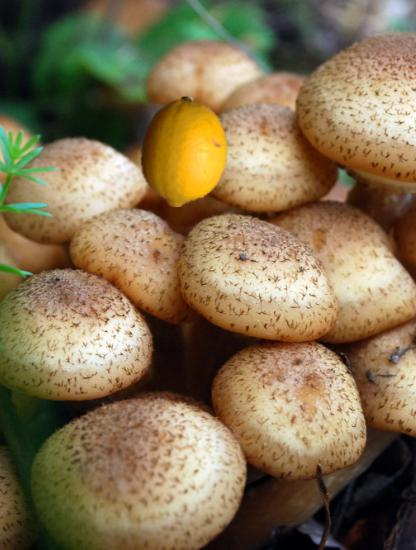Lemon: (129, 97, 239, 207)
